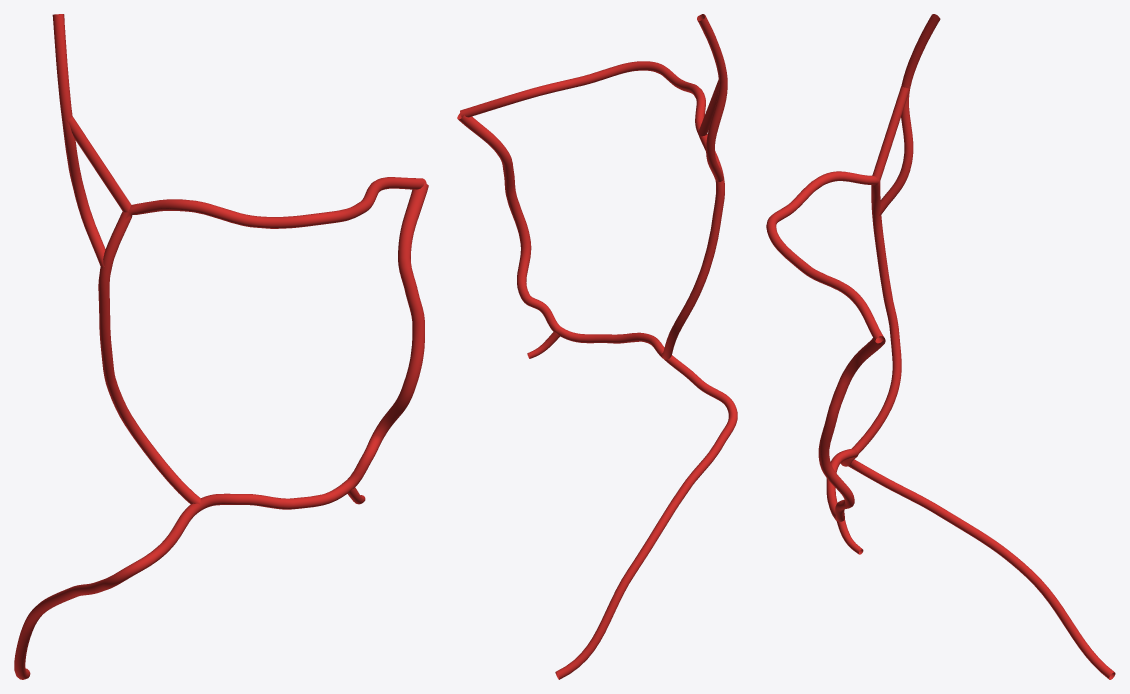
The model's file is circulatorio-patellar-anastomosis-r.glb.
3 views of the same model, side by side, from view 1: azimuth 30°, elevation 25°; view 2: azimuth 150°, elevation 25°; view 3: azimuth 270°, elevation 25° (orthographic). The views are drawn at different scales.
Visible parts, largest first — view 1: Patellar anastomosis.r; view 2: Patellar anastomosis.r; view 3: Patellar anastomosis.r.
Part boxes in pixels (left/top/right/bottom): Patellar anastomosis.r: left=14, top=14, right=428, bottom=679; Patellar anastomosis.r: left=457, top=14, right=737, bottom=679; Patellar anastomosis.r: left=766, top=14, right=1115, bottom=679.
Bounding box in the file's own units: 0.0613 × 0.1279 × 0.0637.
